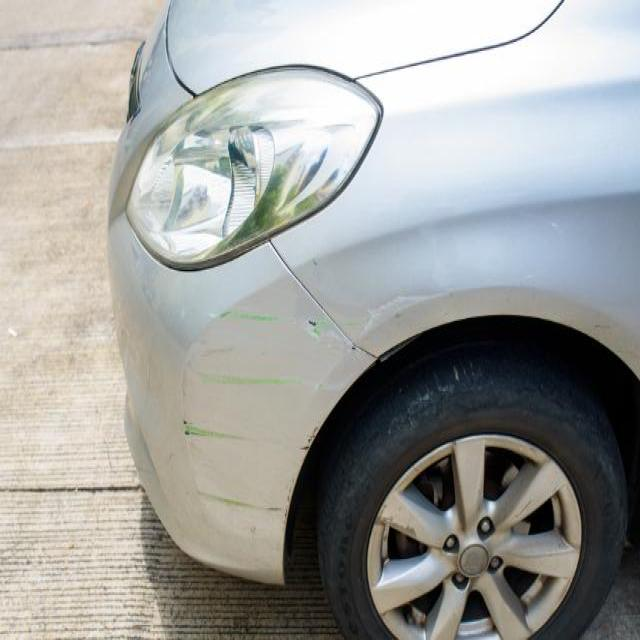Dent: (182, 411, 306, 506), (121, 390, 160, 530), (359, 292, 447, 345), (347, 337, 377, 363), (195, 343, 236, 358), (299, 433, 315, 451), (593, 322, 611, 330), (452, 364, 459, 381), (550, 220, 559, 230), (248, 524, 256, 534), (181, 417, 188, 424), (308, 317, 316, 323), (312, 258, 318, 265), (351, 342, 357, 349), (184, 427, 190, 433)
